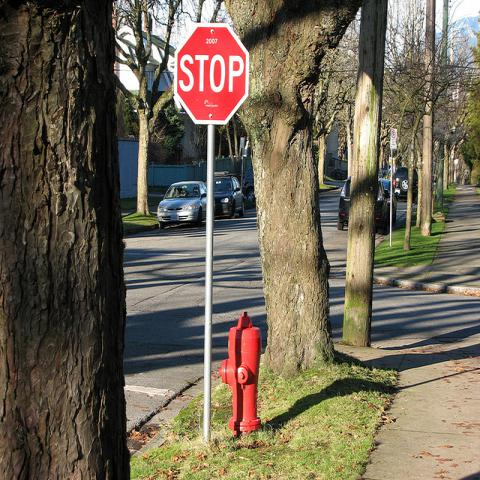car: (336, 183, 392, 232), (157, 181, 206, 230), (214, 174, 246, 220), (392, 168, 418, 203), (379, 179, 397, 222), (242, 168, 255, 209)
